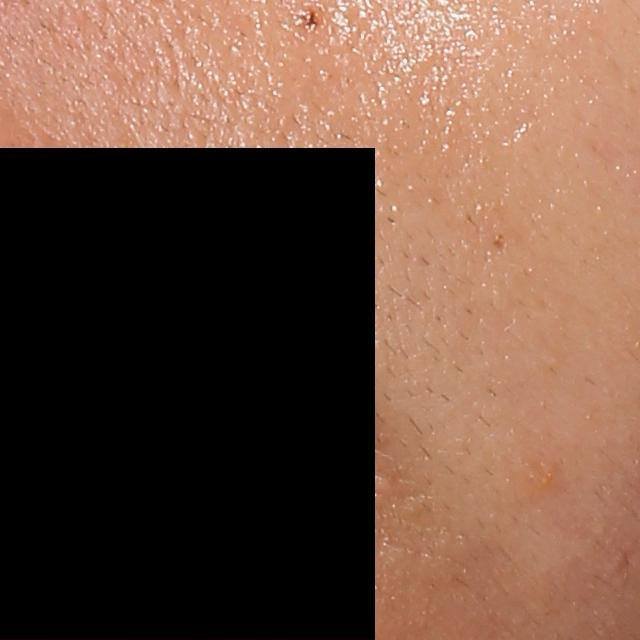nevus: (296, 5, 326, 34)
